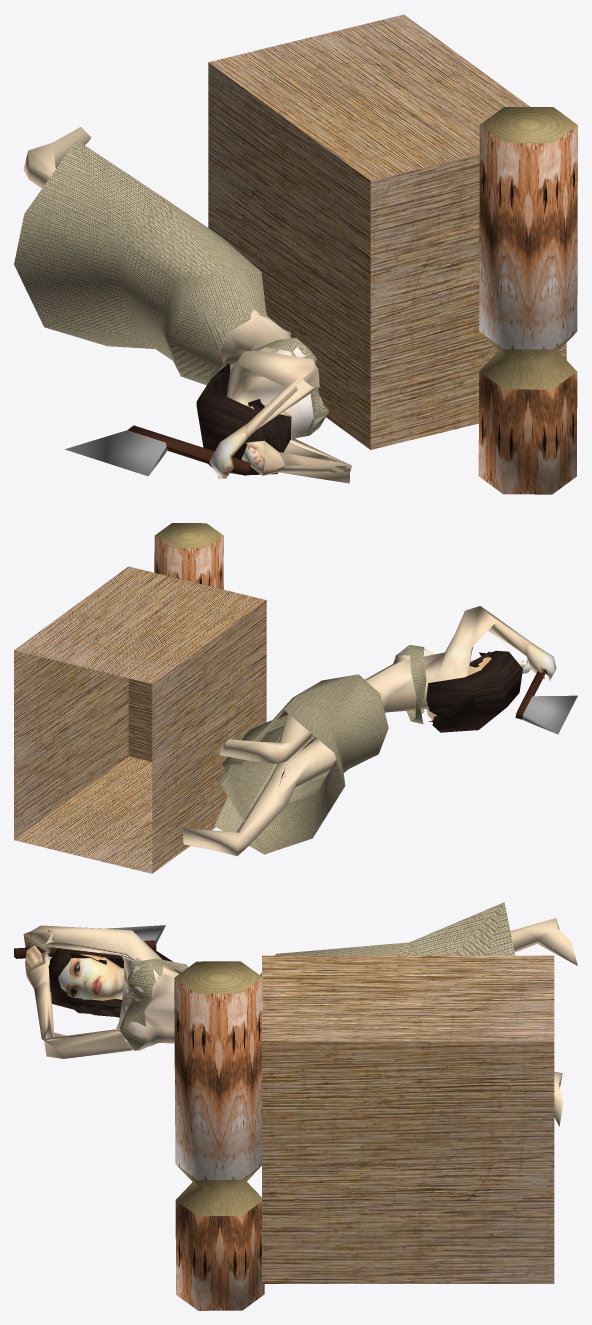
File: worker_000615.obj
3 views of the same model, one above another, from view 1: azimuth 30°, elevation 25°; view 2: azimuth 150°, elevation 25°; view 3: azimuth 270°, elevation 25° (orthographic). The views are drawn at different scales.
Visible parts, largest first — view 1: cube_Cube, saree_Cylinder, log_Cylinder.003, body.001_omino.012, hair.003_omino.013, axe_Cylinder.001; view 2: cube_Cube, saree_Cylinder, body.001_omino.012, hair.003_omino.013, log_Cylinder.003, axe_Cylinder.001; view 3: cube_Cube, log_Cylinder.003, body.001_omino.012, saree_Cylinder, hair.003_omino.013, axe_Cylinder.001.
Boxes of the visible parts, box(x1,y1,x2,y2) form: cube_Cube: box(208, 14, 566, 449); saree_Cylinder: box(14, 140, 329, 437); log_Cylinder.003: box(478, 107, 577, 494); body.001_omino.012: box(23, 127, 352, 483); hair.003_omino.013: box(196, 363, 291, 475); axe_Cylinder.001: box(65, 425, 251, 476); cube_Cube: box(14, 566, 266, 873); saree_Cylinder: box(214, 645, 426, 854); body.001_omino.012: box(182, 606, 556, 856); hair.003_omino.013: box(426, 650, 522, 732); log_Cylinder.003: box(154, 523, 223, 589); axe_Cylinder.001: box(515, 671, 577, 734); cube_Cube: box(262, 955, 554, 1283); log_Cylinder.003: box(174, 961, 264, 1310); body.001_omino.012: box(23, 918, 577, 1126); saree_Cylinder: box(120, 902, 515, 1050); hair.003_omino.013: box(48, 948, 180, 1017); axe_Cylinder.001: box(14, 925, 165, 958).
Size of the model in its own units: 2.77 by 1.68 by 2.71.
